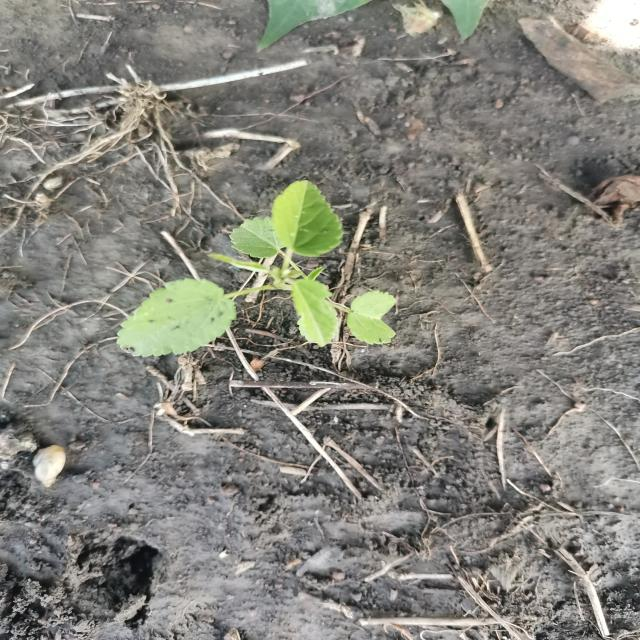PricklySida: (114, 177, 402, 361)
